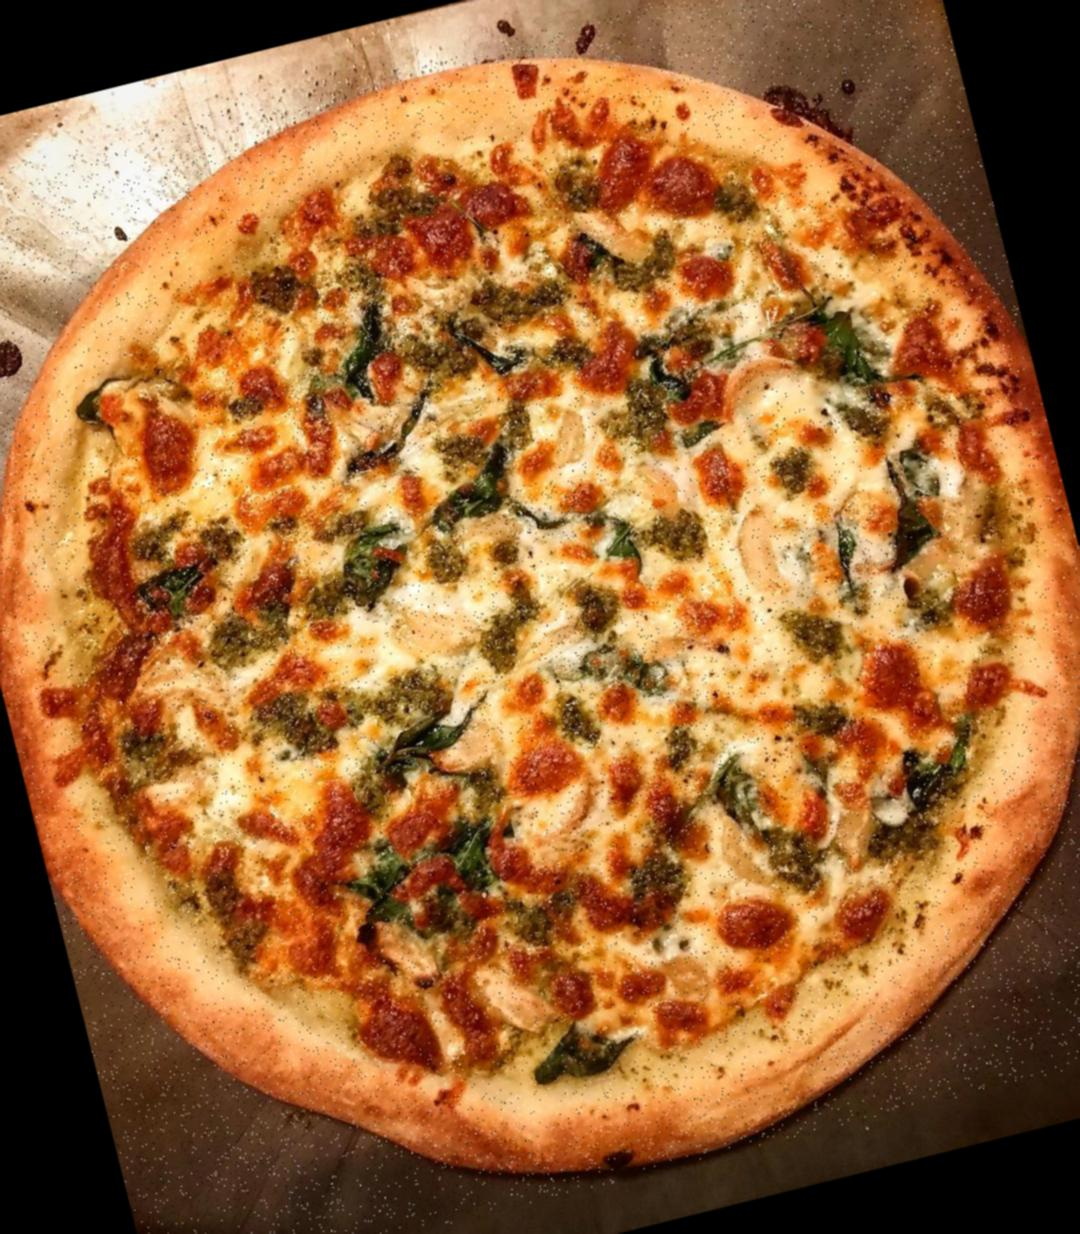Basil: (781, 269, 917, 418), (348, 682, 513, 805), (417, 405, 559, 532), (321, 833, 445, 974), (852, 443, 967, 584), (544, 604, 678, 723), (609, 302, 741, 421), (547, 203, 691, 307), (127, 523, 247, 646), (509, 1004, 650, 1101), (422, 796, 533, 914), (318, 289, 414, 422), (438, 285, 551, 392), (334, 389, 445, 487), (61, 358, 158, 461), (890, 722, 983, 826), (808, 501, 887, 618), (694, 741, 771, 851), (575, 492, 657, 590), (497, 474, 596, 549)
Pizza: (0, 0, 1080, 1234)
